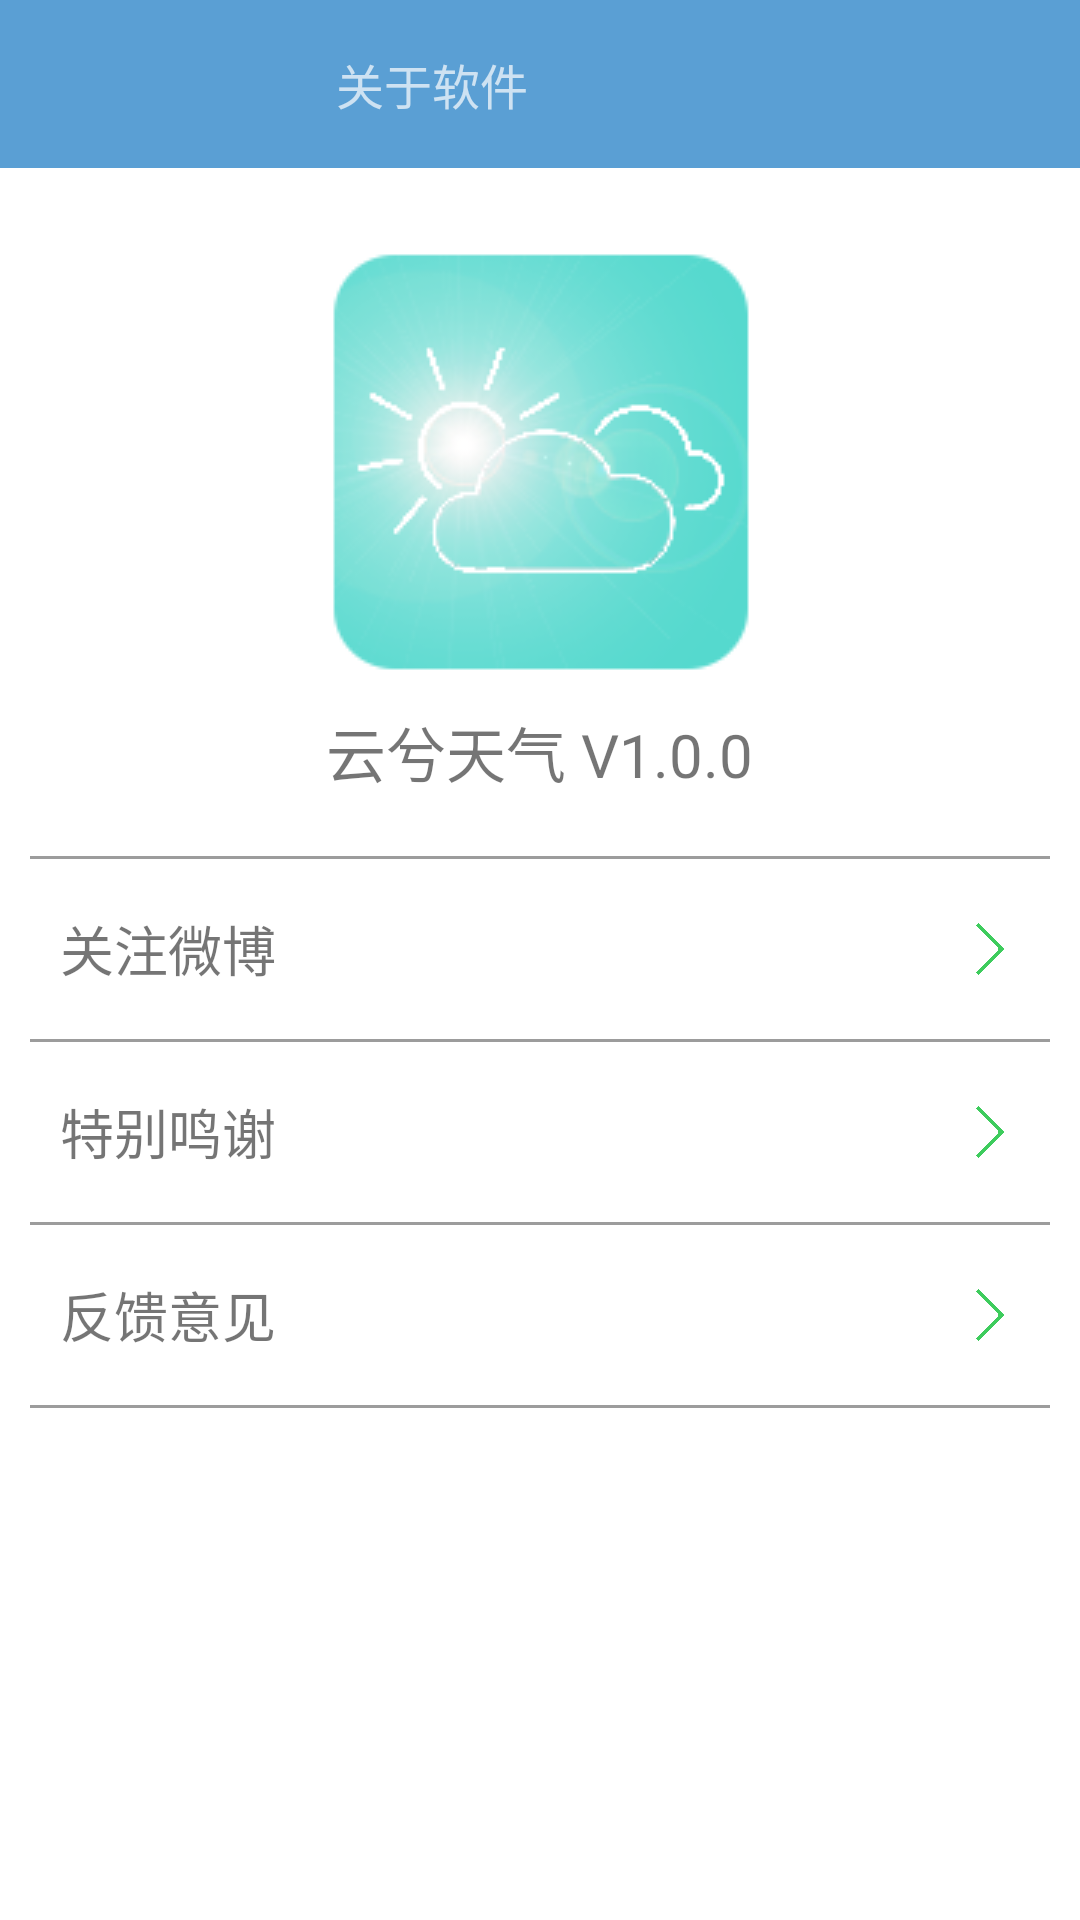

Point at icon controls on the screen. Image size 1080px x 1920px, points as (x,y).
next activity: (990,949), (990,1132), (990,1315)
